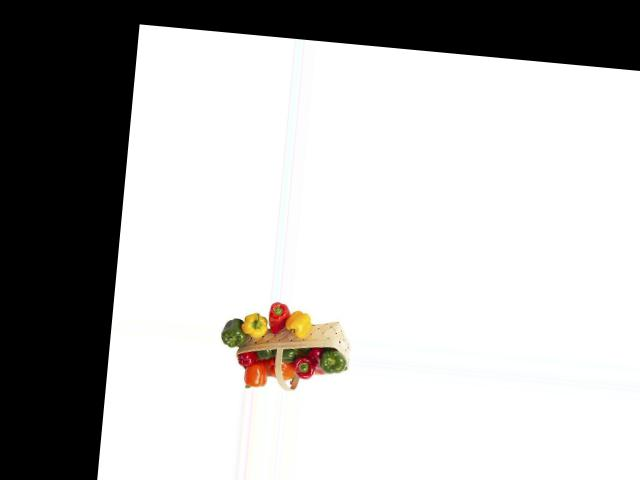bell_pepper: (316, 349, 347, 375)
